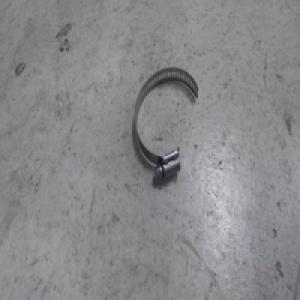AdjustableClamp: (131, 61, 196, 175)
